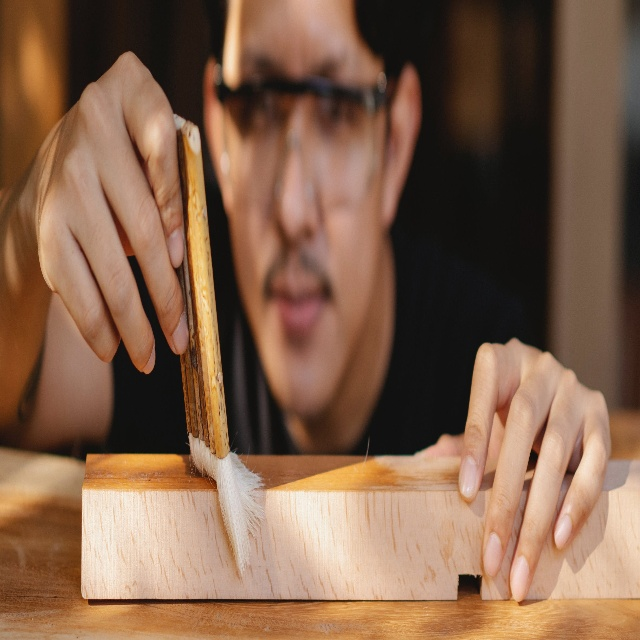Gafas: (211, 63, 386, 203)
Sin_guantes: (26, 50, 190, 377), (429, 335, 612, 605)
